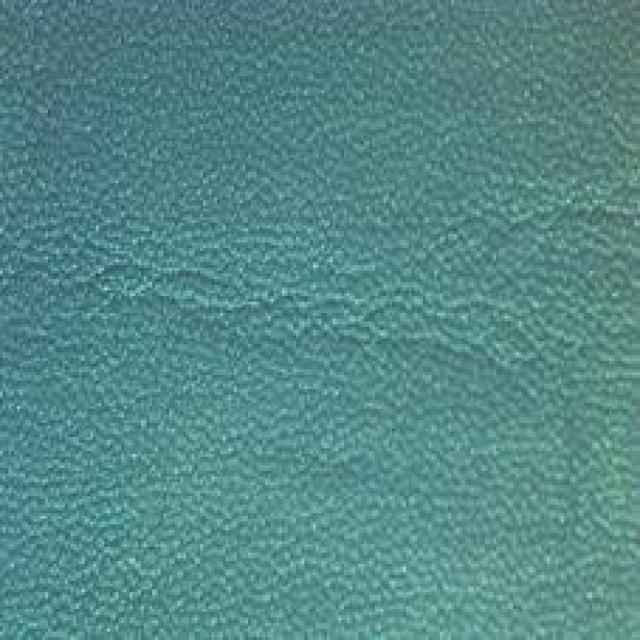Growth Marks: (115, 209, 481, 404)
